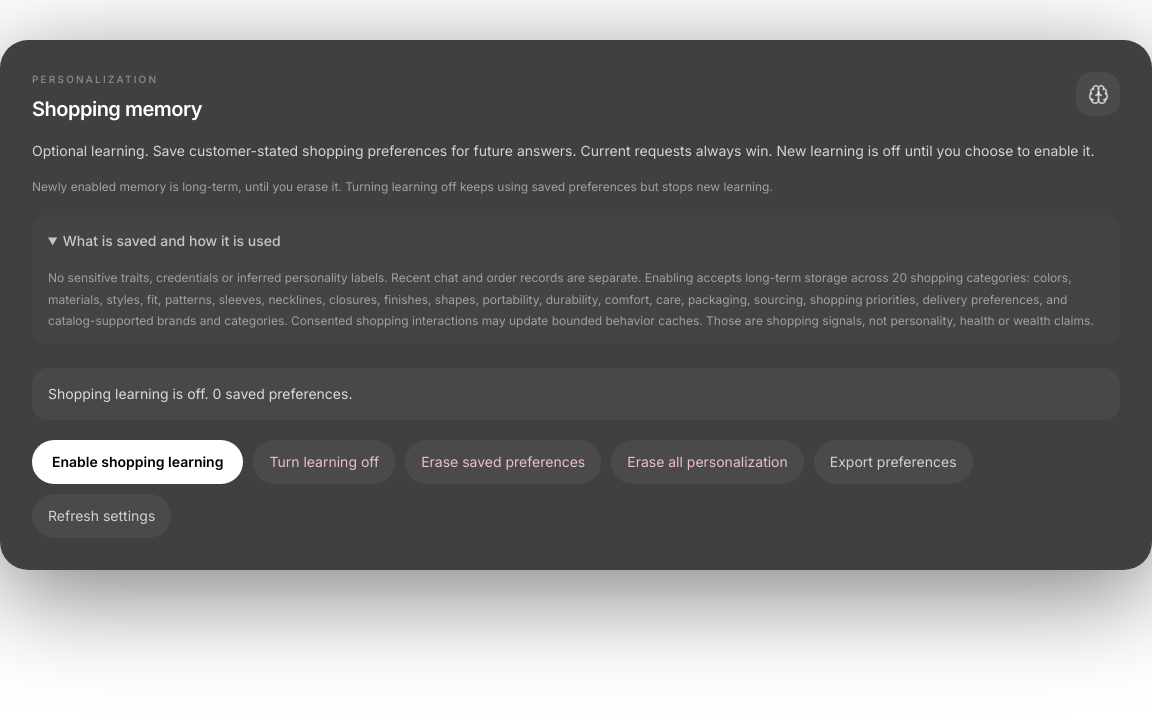
Test: full reset names its scope, requires confirmation and rejects partial cleanup
Step 1. Click the button "Erase all personalization" → (708, 462), box [611,440,804,484]
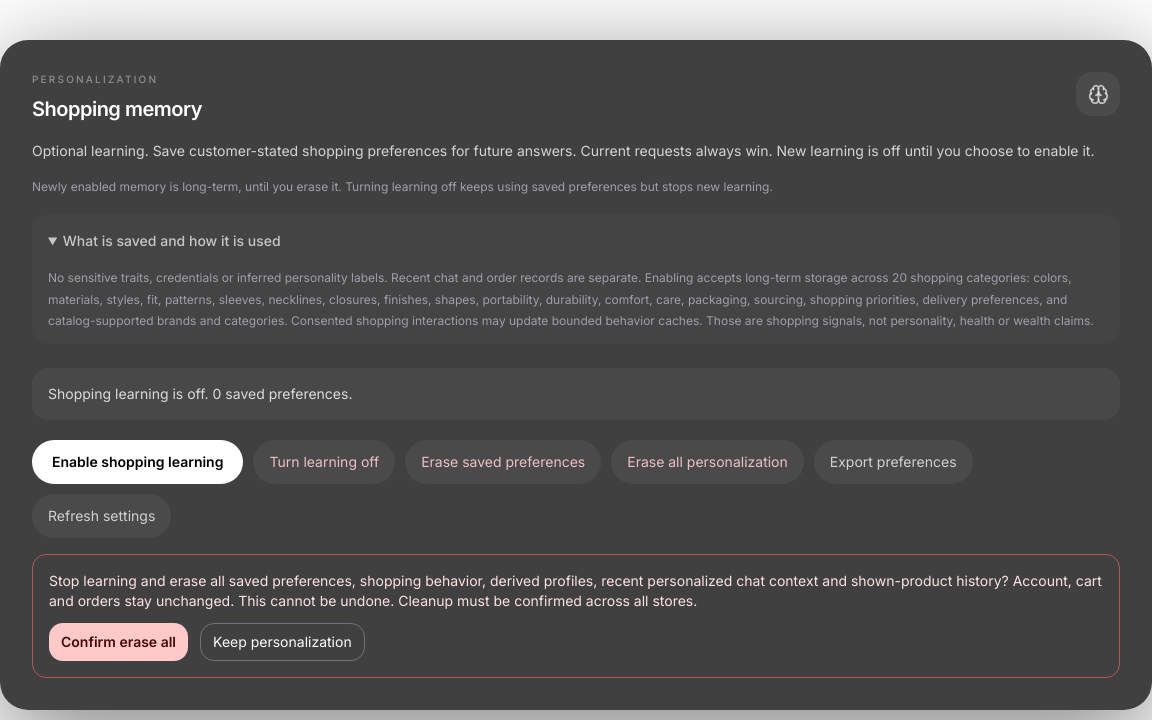
Now the text "Account, cart and orders stay unchanged" is shown, box [49,572,1102,609]
Step 2. Click the button "Confirm erase all" → (118, 642), box [49,623,188,661]
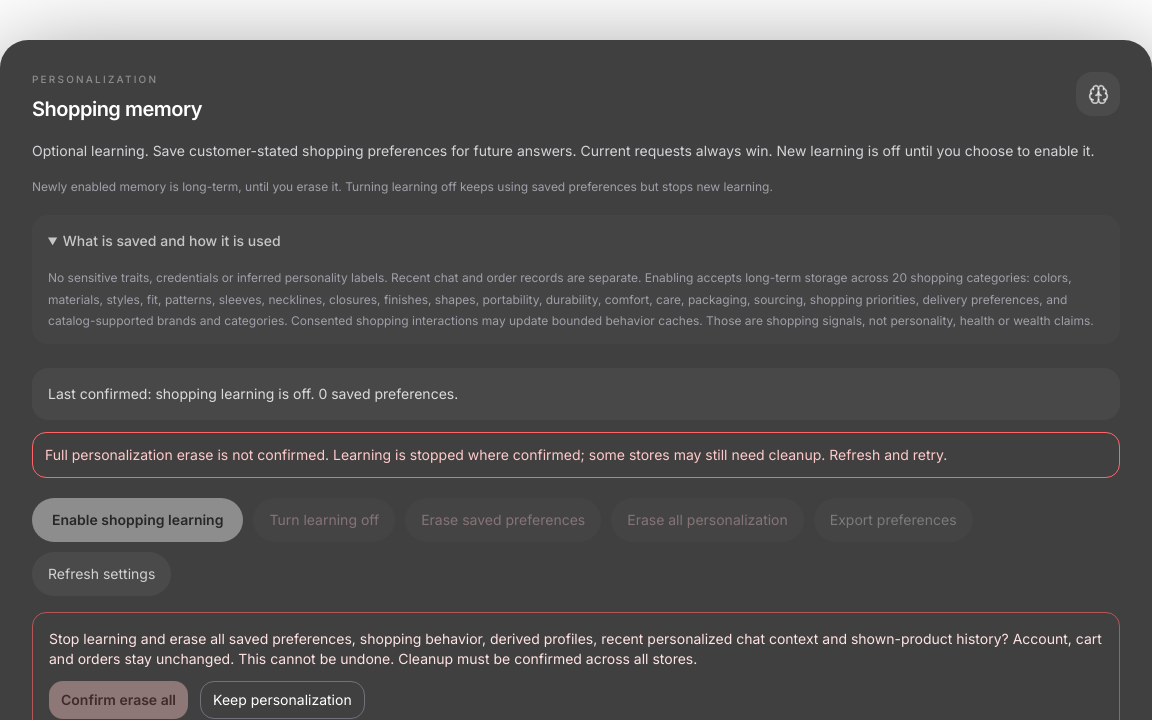
Now the 2nd message shows "not confirmed", box [45,446,947,463]
